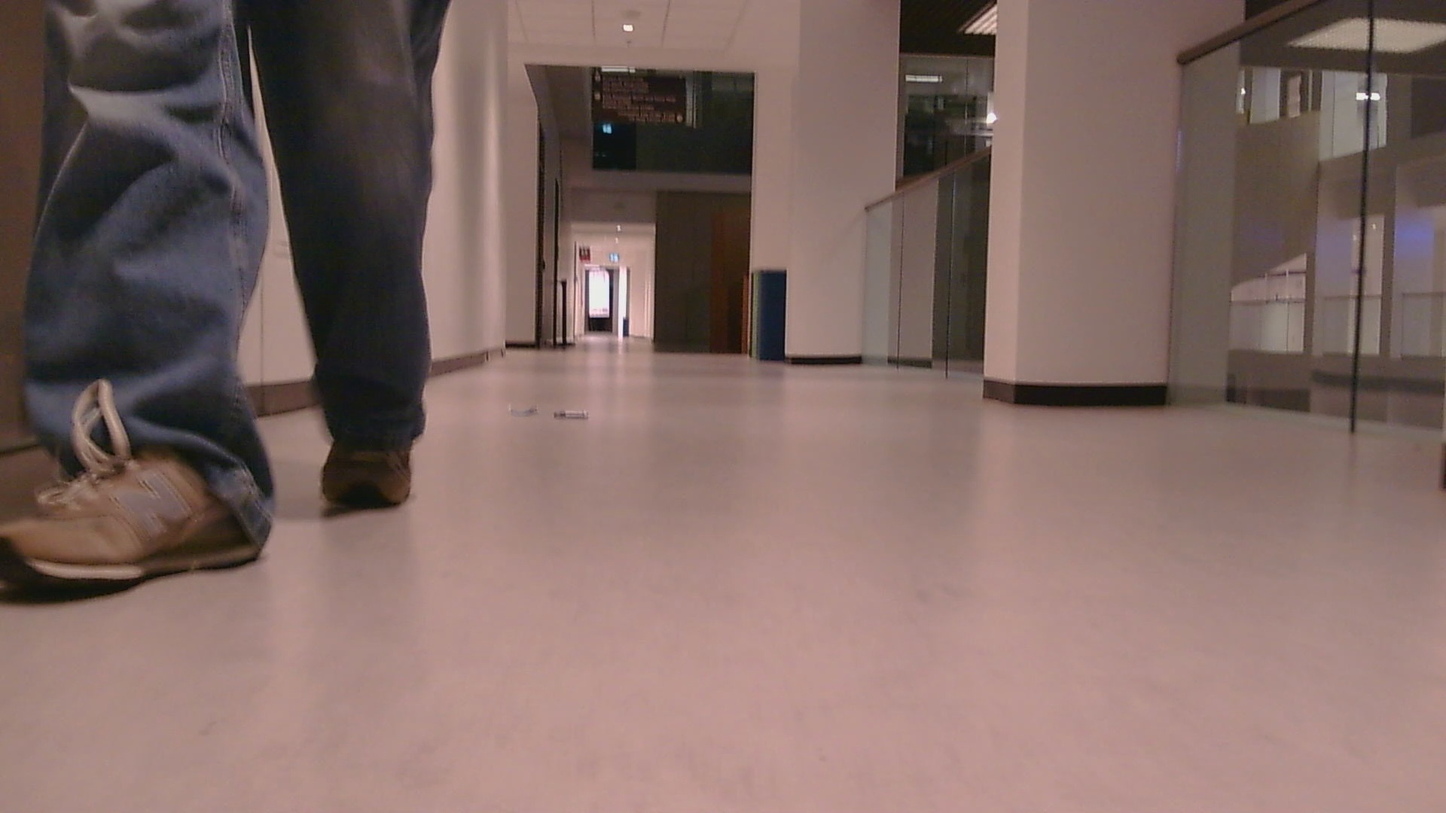carton: (490, 397, 553, 428), (553, 400, 605, 432)
